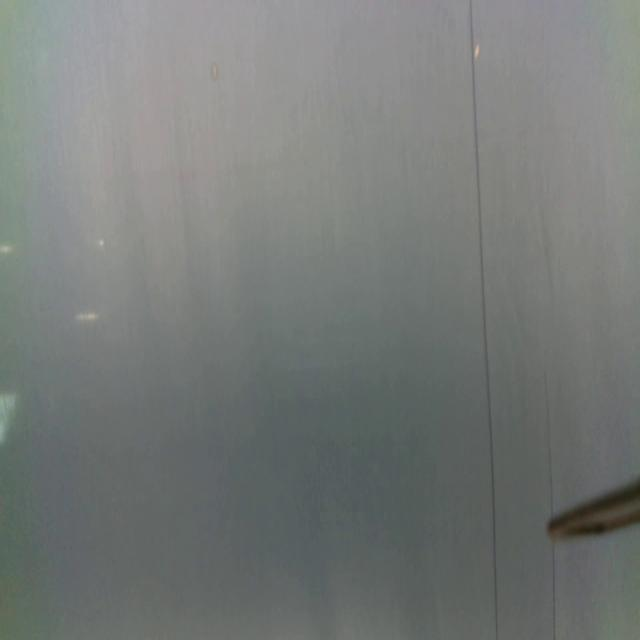crease: (470, 1, 499, 640), (543, 359, 555, 520), (551, 545, 558, 640)
hole: (210, 60, 220, 83), (474, 42, 482, 62)
